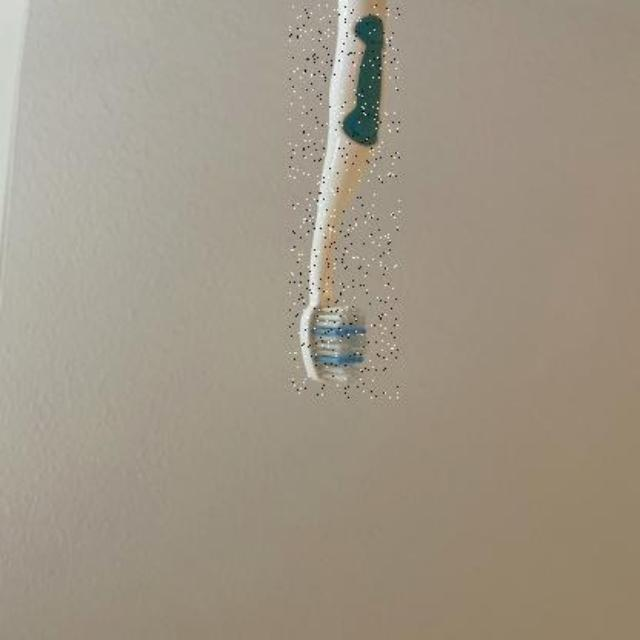toothbrush: (290, 0, 400, 398)
